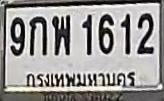1: (120, 14, 130, 54), (81, 14, 91, 54)
2: (136, 12, 154, 54)
6: (98, 13, 113, 53)
9: (9, 16, 24, 55)
A01: (29, 15, 46, 55)
A30: (51, 15, 70, 54)
BKK: (23, 69, 140, 91)
